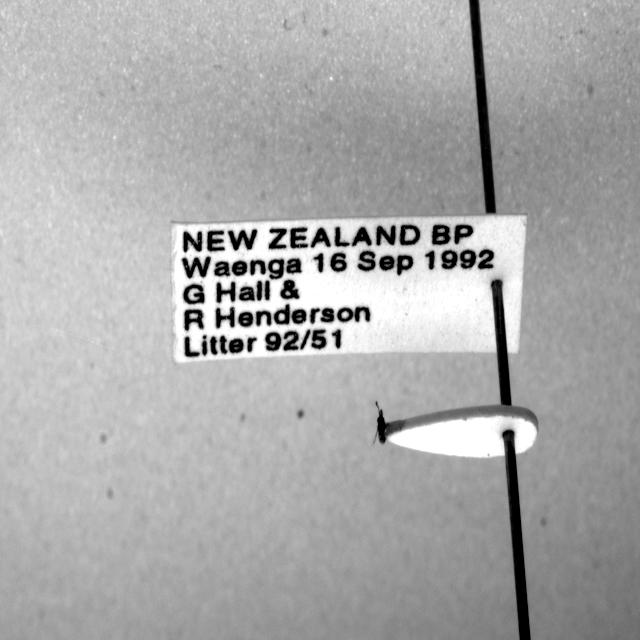typed_label: (171, 216, 526, 362)
